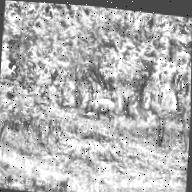boar: (77, 84, 138, 134)
